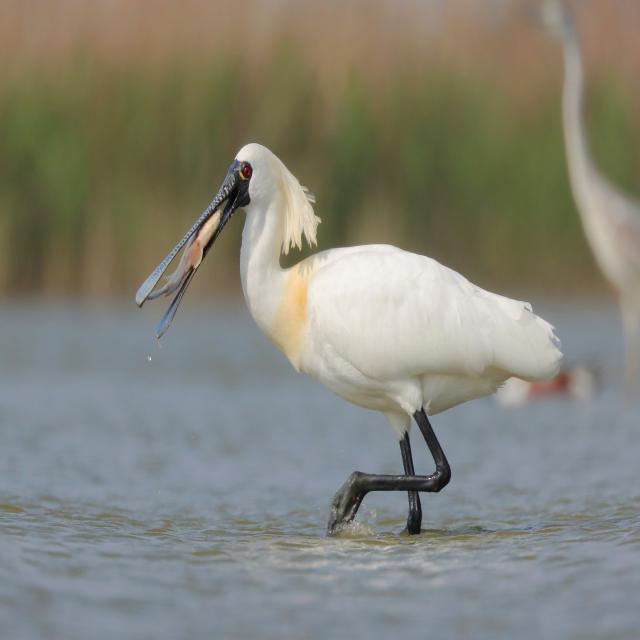Black-faced spoonbill: (137, 144, 562, 533), (533, 0, 639, 392)
